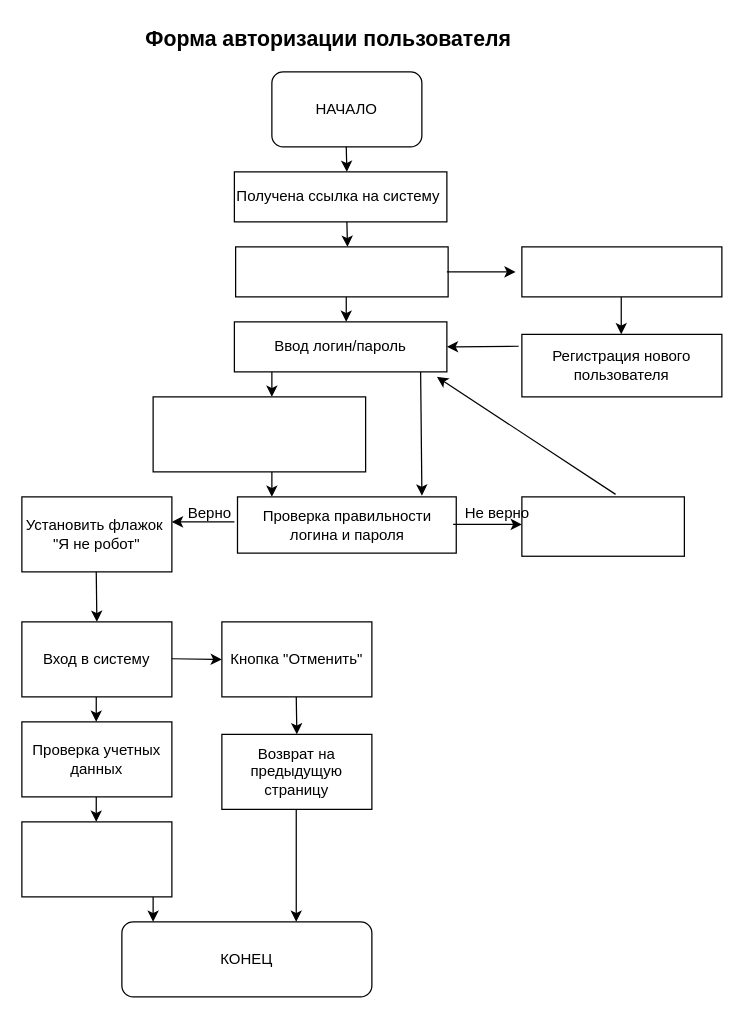
The diagram is 744 pixels wide and 1019 high, and some of its shapes have lost their labels. The centre of each missing label's shape, as x and y in pixels:
"Авторизация" goes at (96,859).
"Зарегистрироваться" goes at (621,271).
"Инициация входа" goes at (341,271).
"Сброс пароля" goes at (602,526).
"Установка или снятие флажка ОСТАТЬСЯ В СИСТЕМЕ" goes at (259,434).
